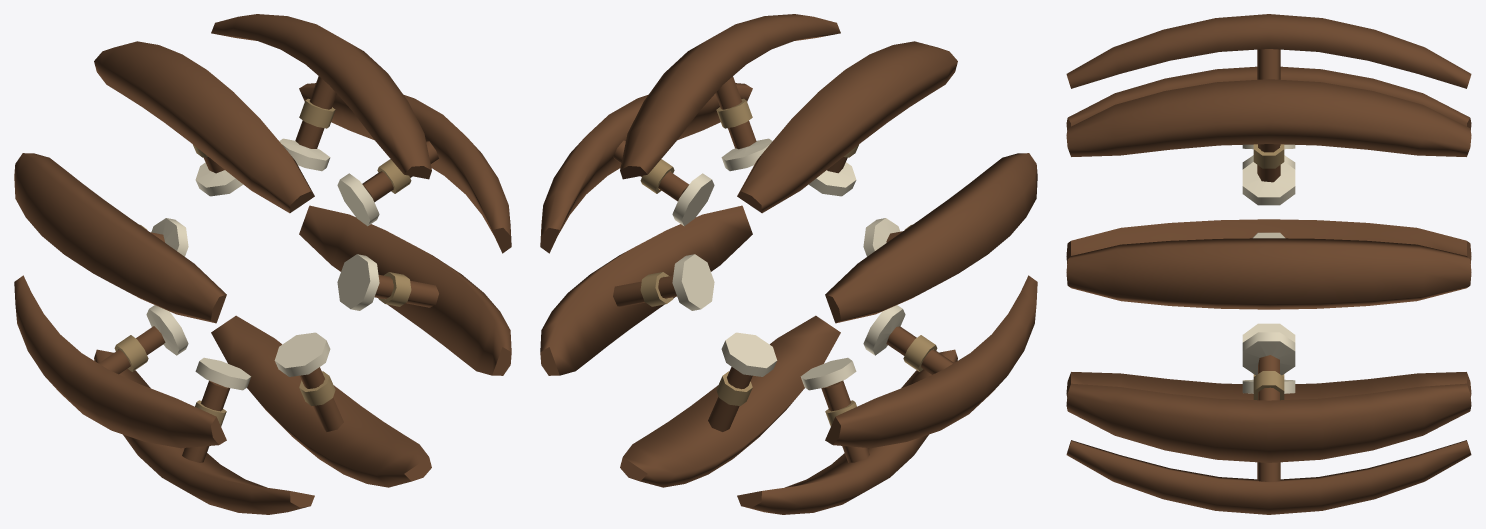
Rendered from k12_dampers.obj.
3 views of the same model, side by side, from view 1: azimuth 30°, elevation 25°; view 2: azimuth 150°, elevation 25°; view 3: azimuth 270°, elevation 25° (orthographic). The views are drawn at different scales.
Visible parts, largest first — view 1: k12_dampers; view 2: k12_dampers; view 3: k12_dampers.
Boxes of the visible parts, box(x1,y1,x2,y2) form: k12_dampers: box(14, 14, 511, 514); k12_dampers: box(540, 14, 1037, 514); k12_dampers: box(1066, 14, 1471, 514).
Size of the model in its own units: 3.13 by 3.13 by 2.7.
